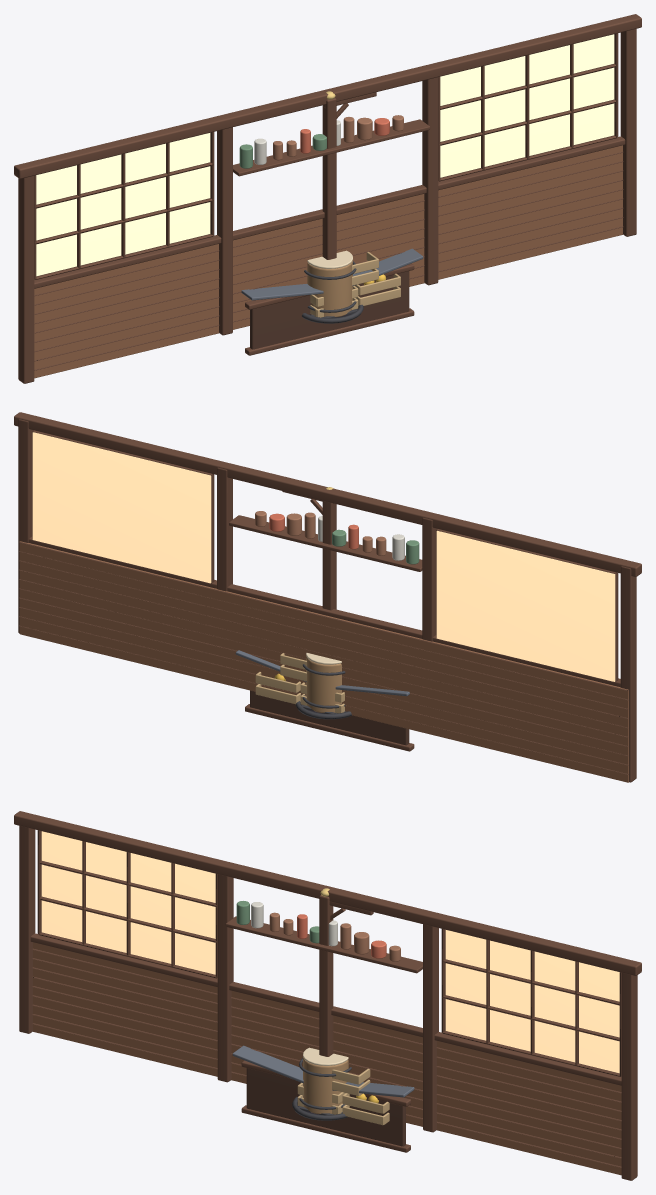
The model's file is dressing.glb.
The picture shows the model from 3 angles, top to bottom: view 1: azimuth 30°, elevation 25°; view 2: azimuth 150°, elevation 25°; view 3: azimuth 330°, elevation 25°; orthographic projection.
Parts seen in each view (by area): view 1: backwallMesh, signMesh, postMesh, barrelMesh, cratesMesh; view 2: backwallMesh, signMesh, barrelMesh, cratesMesh, postMesh; view 3: backwallMesh, signMesh, postMesh, barrelMesh, cratesMesh.
Boxes of the visible parts, x1,y1,x2,y2 form: backwallMesh: (14,14,641,383); signMesh: (241,248,423,355); postMesh: (322,91,376,259); barrelMesh: (304,250,356,316); cratesMesh: (310,252,400,317); backwallMesh: (14,412,641,782); signMesh: (235,650,414,751); barrelMesh: (302,653,345,712); cratesMesh: (255,653,344,713); postMesh: (282,487,336,610); backwallMesh: (14,811,641,1180); signMesh: (232,1045,414,1152); postMesh: (319,888,373,1056); barrelMesh: (299,1047,351,1113); cratesMesh: (297,1068,389,1125).
Bounding box in the file's own units: 9.1 × 3.38 × 0.87.
